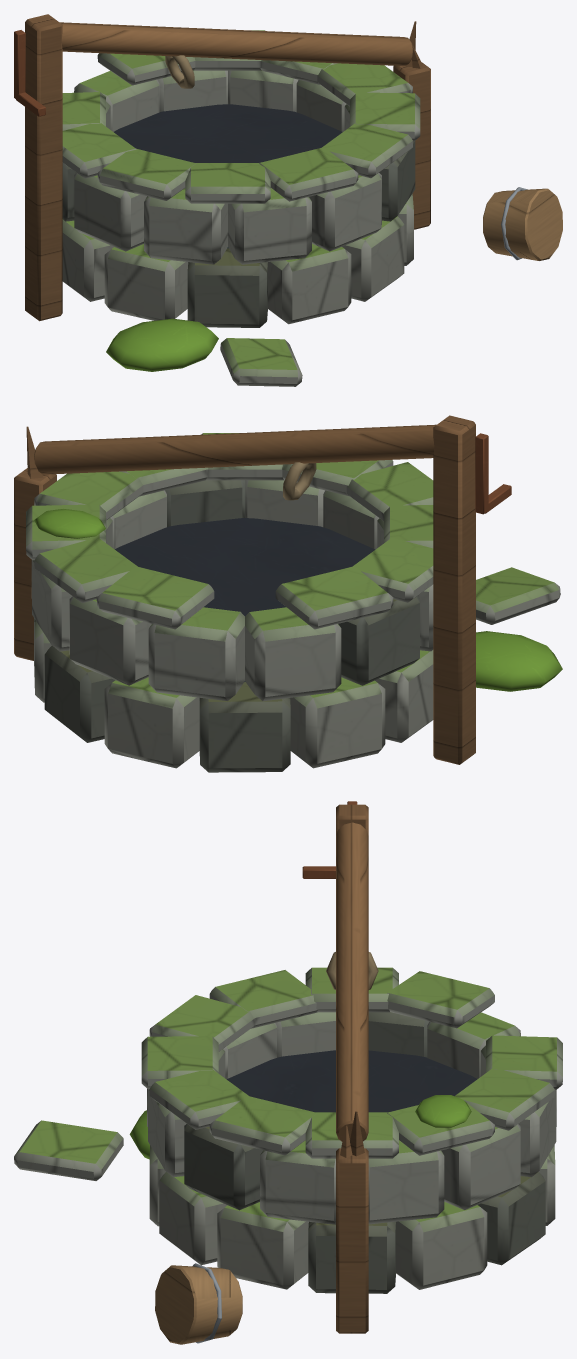
The model's file is stone_well.glb.
3 renders of one model, top to bottom at view 1: azimuth 30°, elevation 25°; view 2: azimuth 150°, elevation 25°; view 3: azimuth 270°, elevation 25°, orthographic. The views are drawn at different scales.
Visible parts, largest first — view 1: stone_well; view 2: stone_well; view 3: stone_well.
Boxes of the visible parts, x1,y1,x2,y2 form: stone_well: [14, 14, 562, 386]; stone_well: [14, 415, 562, 772]; stone_well: [14, 801, 562, 1344].
Size of the model in its own units: 2.97 by 1.75 by 2.71.
Materials: 11 (11 with a texture image).
